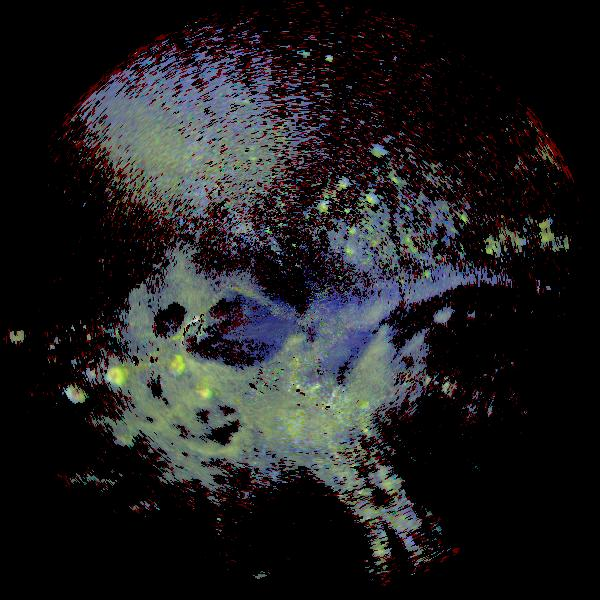roost: (104, 364, 128, 388), (193, 384, 214, 405), (67, 385, 85, 403), (168, 357, 186, 375), (371, 144, 386, 159)
